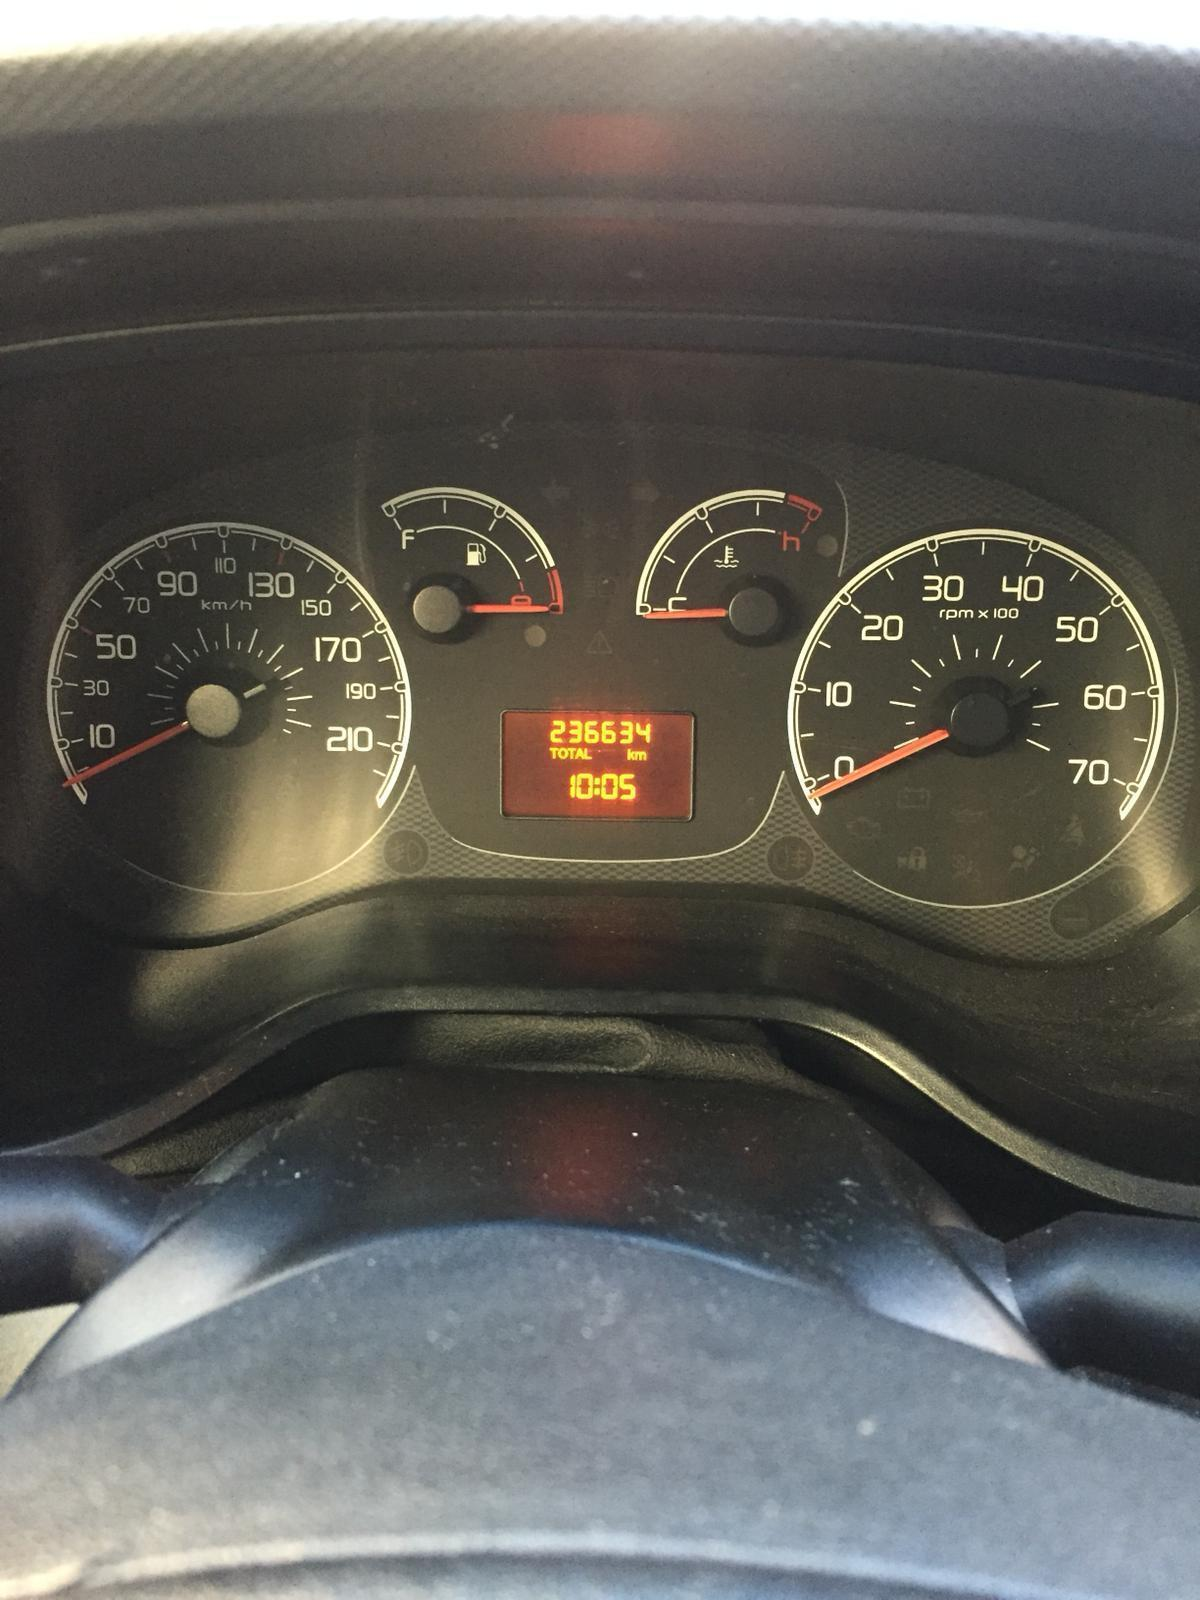0: (576, 771, 592, 800), (601, 772, 616, 801)
1: (568, 774, 575, 799)
2: (550, 718, 566, 745)
3: (618, 719, 633, 745), (568, 719, 584, 743)
4: (633, 721, 653, 745)
5: (619, 771, 637, 801)
6: (600, 719, 616, 745), (584, 719, 599, 745)
X: (592, 774, 601, 797), (634, 750, 648, 762), (568, 746, 579, 760), (558, 746, 568, 760), (576, 746, 585, 761), (548, 746, 557, 760), (625, 747, 634, 761), (584, 748, 592, 760)
odometer: (499, 708, 697, 823)
